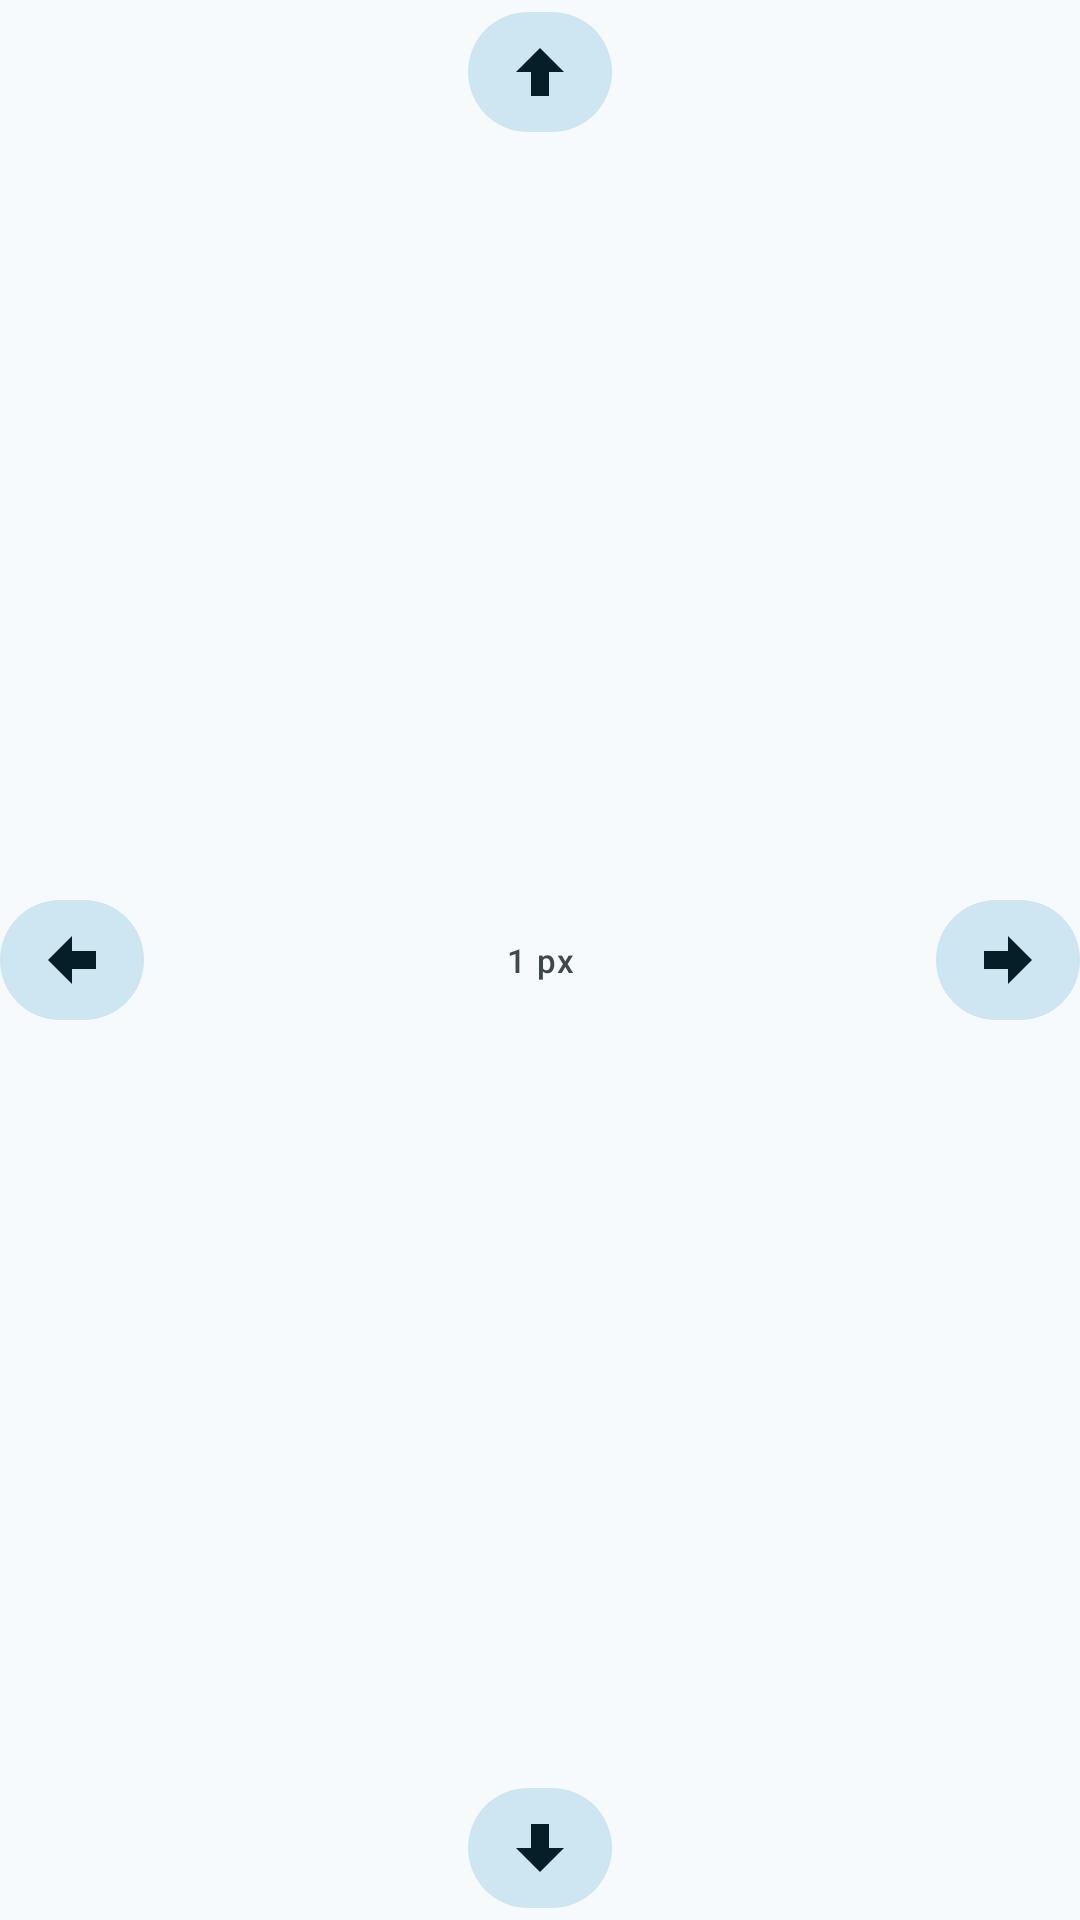

Screen size 1080 × 1920. Icon name, then its box in pixels as (x1=x1, y1=y1, x2=x2, y2=y2):
Nudge down one pixel: (x1=468, y1=1788, x2=612, y2=1908)
Nudge left one pixel: (x1=0, y1=900, x2=144, y2=1020)
Nudge right one pixel: (x1=936, y1=900, x2=1080, y2=1020)
Nudge up one pixel: (x1=468, y1=12, x2=612, y2=132)
